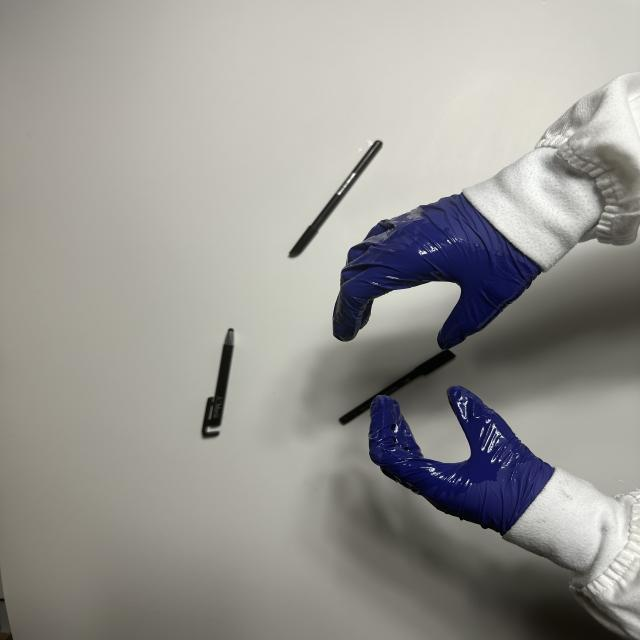gloves_contaminated: (334, 195, 540, 349), (369, 386, 555, 534)
